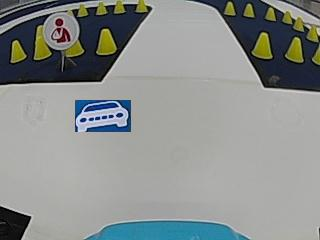cone: (251, 32, 273, 59), (95, 28, 116, 56), (33, 29, 51, 60), (286, 37, 304, 62), (10, 39, 26, 61), (66, 38, 84, 56), (306, 24, 318, 41), (311, 43, 320, 64), (223, 1, 236, 15), (134, 0, 147, 13), (113, 0, 125, 14), (243, 3, 255, 17), (95, 2, 107, 15), (77, 3, 88, 17), (293, 16, 303, 31), (265, 7, 276, 20), (282, 10, 292, 23)
patient: (45, 16, 74, 46)
